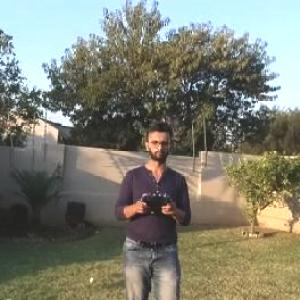follow: (114, 108, 202, 299)
